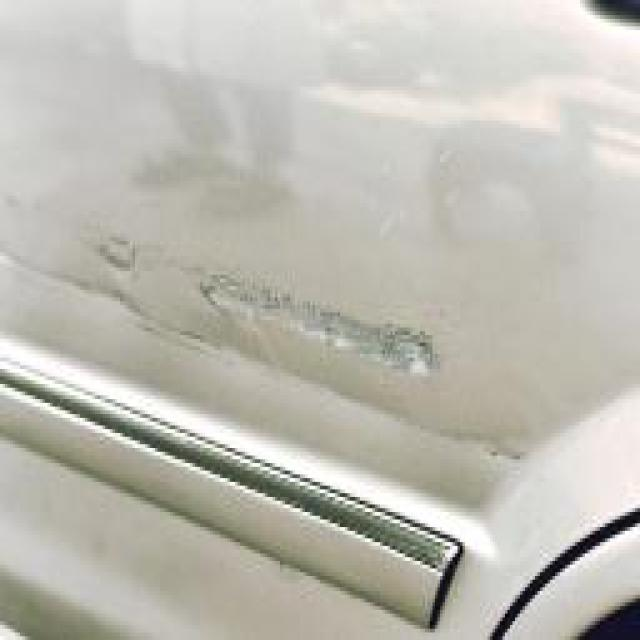Door: (8, 184, 548, 542)
